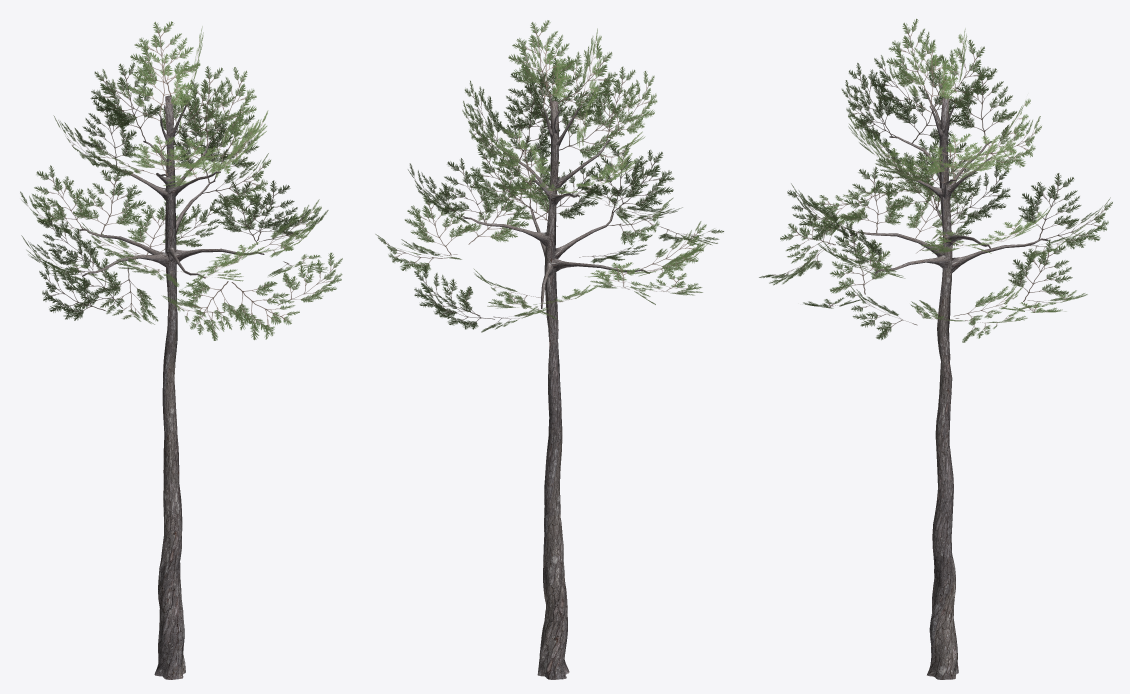
File: cay-dau-co-thu-02-3.glb
The picture shows the model from 3 angles, left to right: view 1: azimuth 30°, elevation 25°; view 2: azimuth 150°, elevation 25°; view 3: azimuth 270°, elevation 25°; orthographic projection.
Visible parts, largest first — view 1: Tree_02; view 2: Tree_02; view 3: Tree_02.
Boxes of the visible parts, <box> form: Tree_02: <box>20,21,342,679</box>; Tree_02: <box>375,20,724,679</box>; Tree_02: <box>759,18,1112,679</box>.
Size of the model in its own units: 12.35 by 24.93 by 12.59.
Materials: 1 (1 with a texture image).
